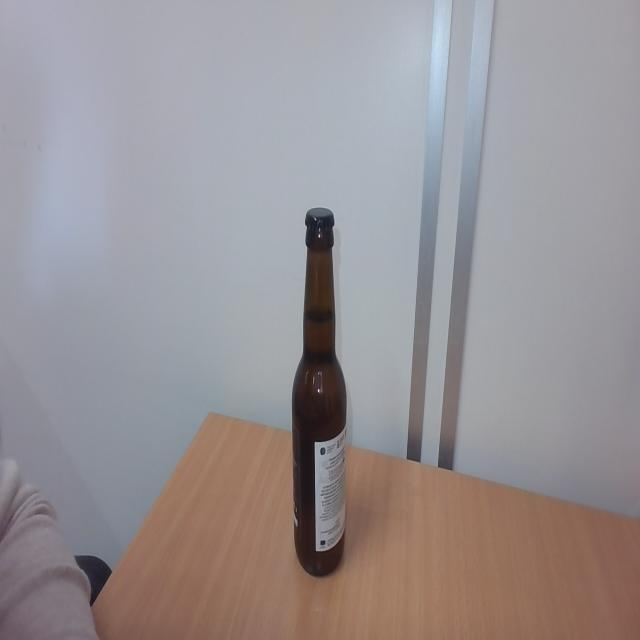Bottle: (292, 232, 346, 576)
Cap: (304, 206, 336, 232)
Label: (293, 429, 347, 554)
